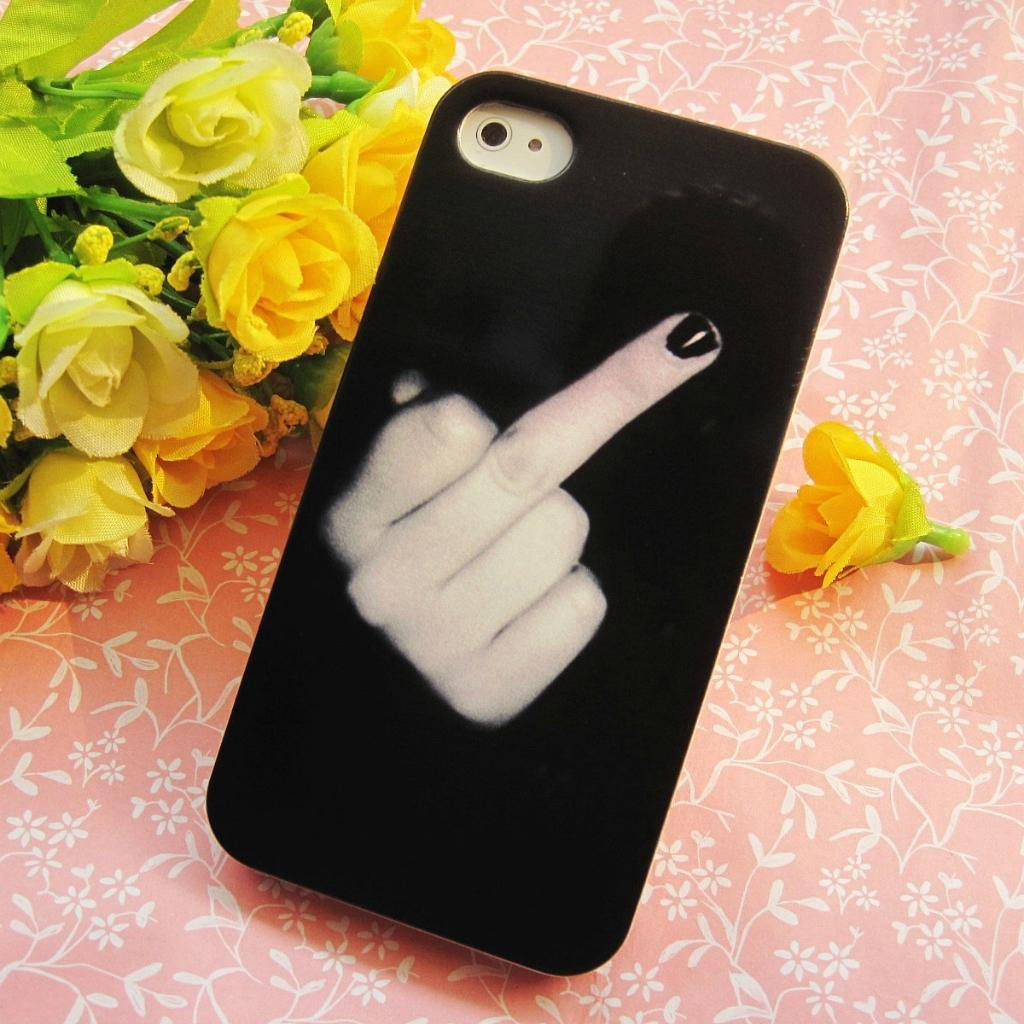phone: (209, 133, 842, 894)
